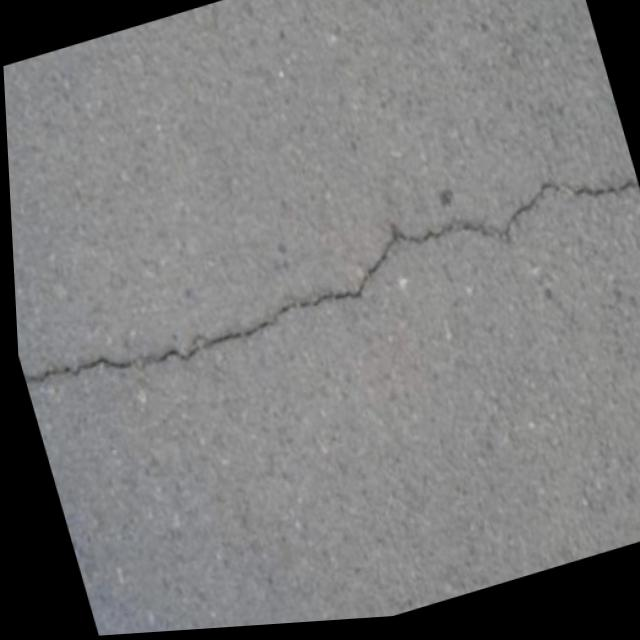Crack: (7, 142, 640, 424)
